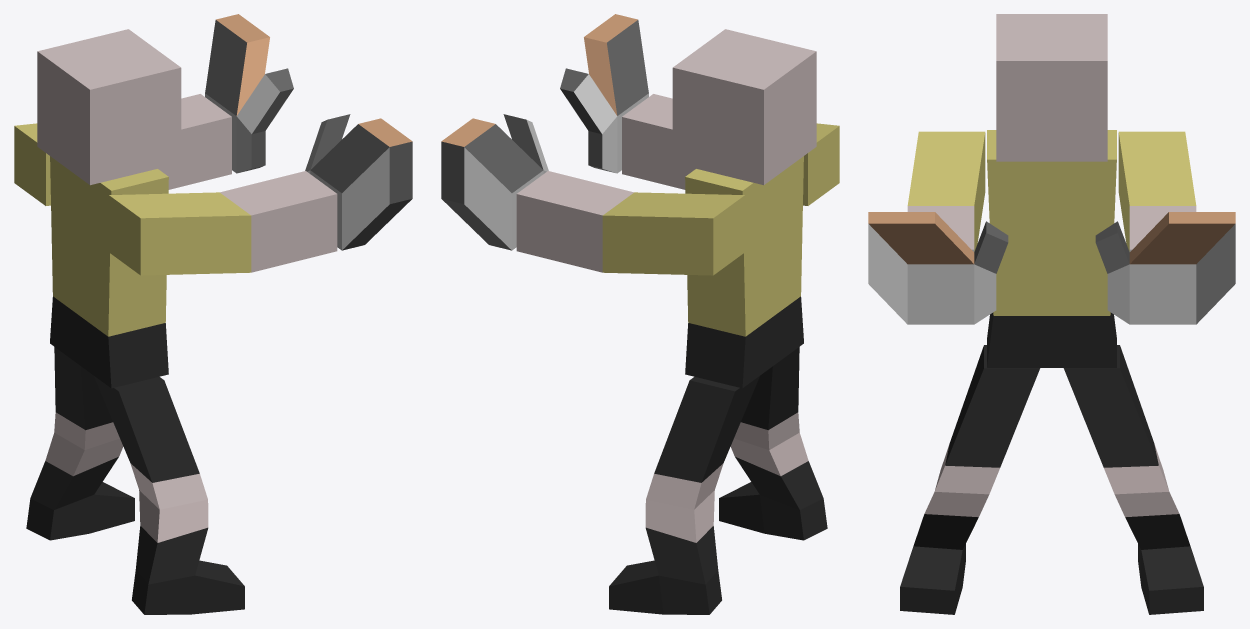
The model's file is Goalie Keeper.fbx.
3 renders of one model, left to right at view 1: azimuth 30°, elevation 25°; view 2: azimuth 150°, elevation 25°; view 3: azimuth 270°, elevation 25°, orthographic. The views are drawn at different scales.
Parts seen in each view (by area): view 1: Cube.001; view 2: Cube.001; view 3: Cube.001.
Part boxes in pixels (<box>): Cube.001: <box>14,14,412,614</box>; Cube.001: <box>441,14,839,614</box>; Cube.001: <box>868,14,1235,614</box>.
Size of the model in its own units: 574 by 1075 by 661.
